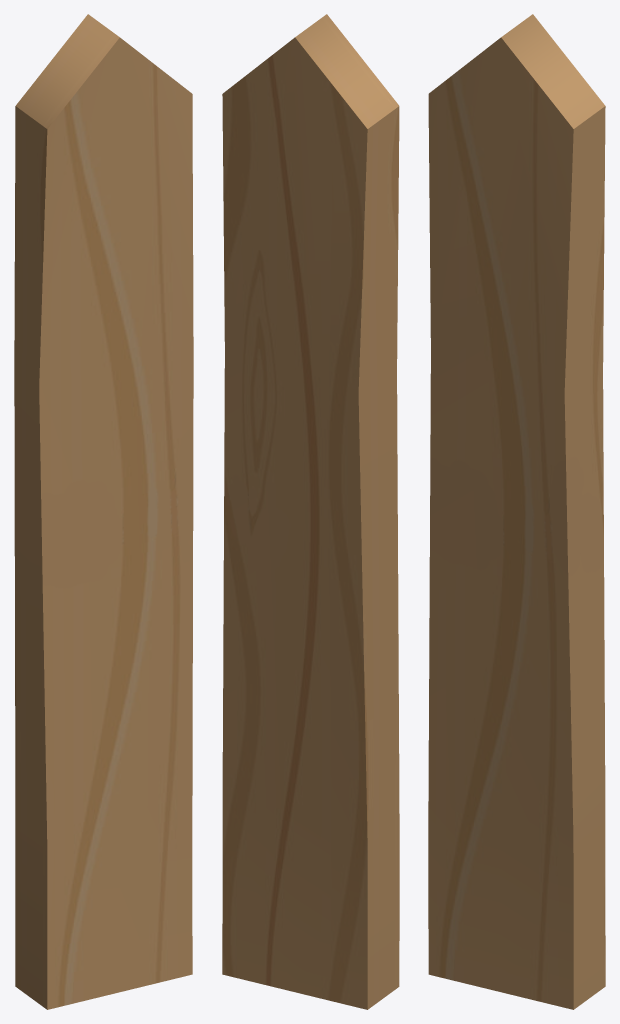
File: wood_fence1.fbx
3 views of the same model, side by side, from view 1: azimuth 30°, elevation 25°; view 2: azimuth 150°, elevation 25°; view 3: azimuth 330°, elevation 25° (orthographic).
Parts seen in each view (by area): view 1: wood_fence1; view 2: wood_fence1; view 3: wood_fence1.
Part boxes in pixels (bbox=[...]): wood_fence1: bbox=[14, 14, 193, 1009]; wood_fence1: bbox=[222, 14, 399, 1009]; wood_fence1: bbox=[428, 14, 605, 1009].
Bounding box in the file's own units: 0.4225 × 2.56 × 0.2037.
